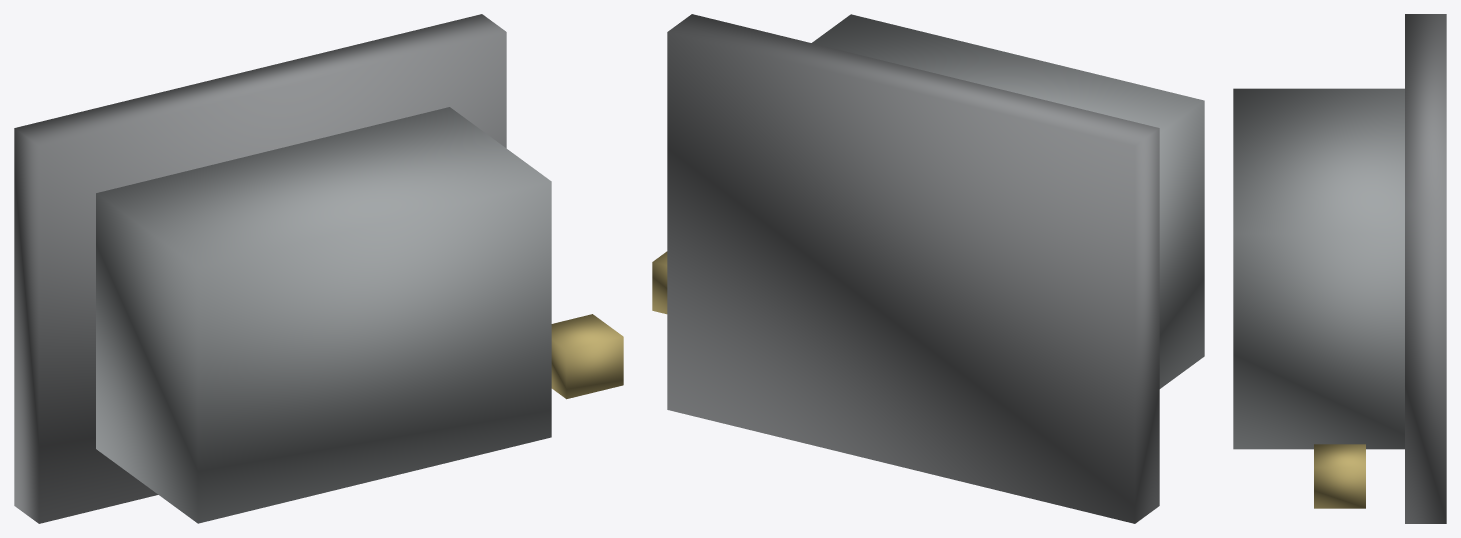
The model's file is duct_penetration_02.glb.
3 views of the same model, side by side, from view 1: azimuth 30°, elevation 25°; view 2: azimuth 150°, elevation 25°; view 3: azimuth 270°, elevation 25° (orthographic). The views are drawn at different scales.
Visible parts, largest first — view 1: world; view 2: world; view 3: world.
Boxes of the visible parts, box(x1,y1,x2,y2) form: world: box(14, 14, 623, 523); world: box(652, 14, 1204, 523); world: box(1233, 14, 1446, 523).
Bounding box in the file's own units: 0.8928 × 0.6076 × 0.369.
